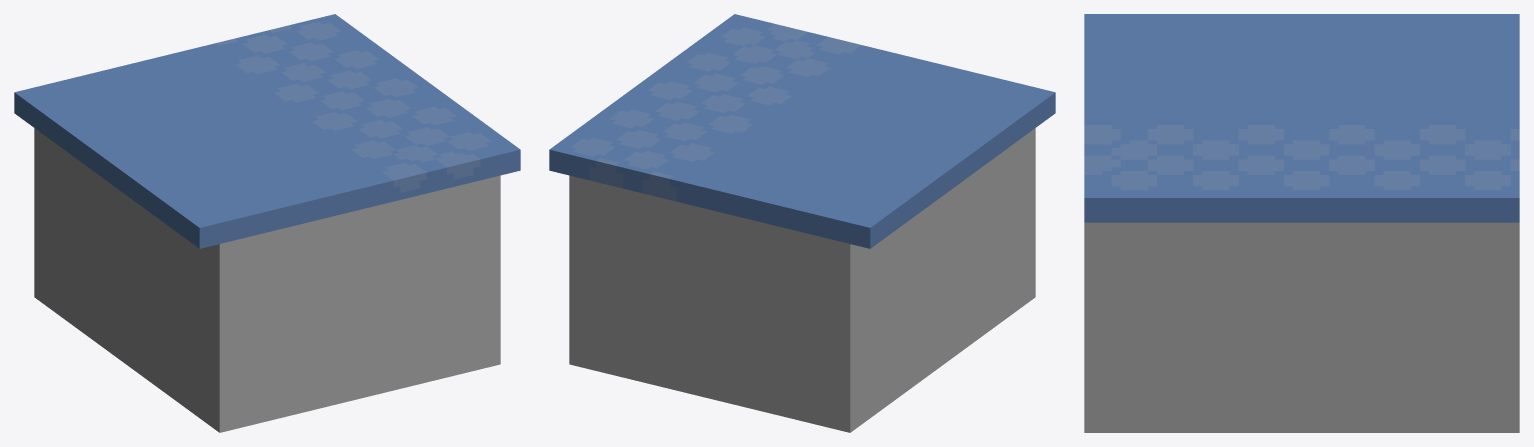
The model's file is counter.obj.
3 views of the same model, side by side, from view 1: azimuth 30°, elevation 25°; view 2: azimuth 150°, elevation 25°; view 3: azimuth 270°, elevation 25° (orthographic). The views are drawn at different scales.
Bounding box in the file's own units: 4.8 × 3 × 4.8.
Materials: 1 (1 with a texture image).
